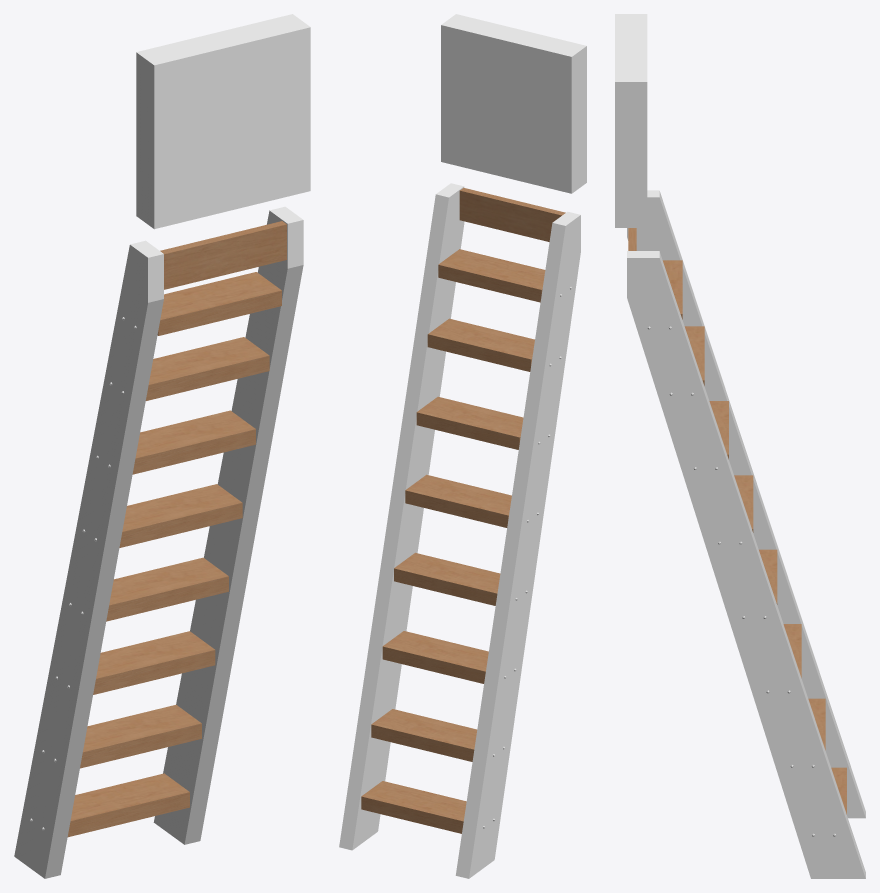
File: P-STEP-7.20b5537b.glb
3 renders of one model, left to right at view 1: azimuth 30°, elevation 25°; view 2: azimuth 150°, elevation 25°; view 3: azimuth 270°, elevation 25°, orthographic. The views are drawn at different scales.
Visible parts, largest first — view 1: Cube359, Joint_!,0,8, Cube360, Cube359_1; view 2: Cube359, Joint_!,0,8, Cube360, Cube359_1; view 3: Cube359, Joint_!,0,8, Cube360, Cube359_1.
Part boxes in pixels (x1,y1,x2,y2): Cube359: (14,206,303,878); Joint_!,0,8: (136,14,310,229); Cube360: (80,337,269,768); Cube359_1: (67,221,286,837); Cube359: (339,183,580,878); Joint_!,0,8: (441,14,586,193); Cube360: (371,318,534,761); Cube359_1: (361,188,565,833); Cube359: (627,190,865,878); Joint_!,0,8: (615,14,647,227); Cube360: (684,326,825,750); Cube359_1: (628,228,846,814).
Size of the model in its own units: 0.5082 by 2.73 by 0.7779.
4 materials, 1 textured.
